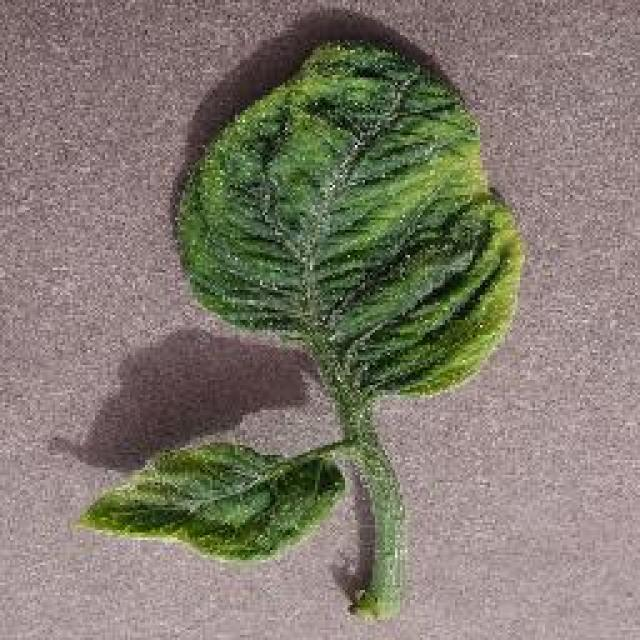Tom_Yellow_Leaf_Curl_Virus: (209, 49, 526, 386)
